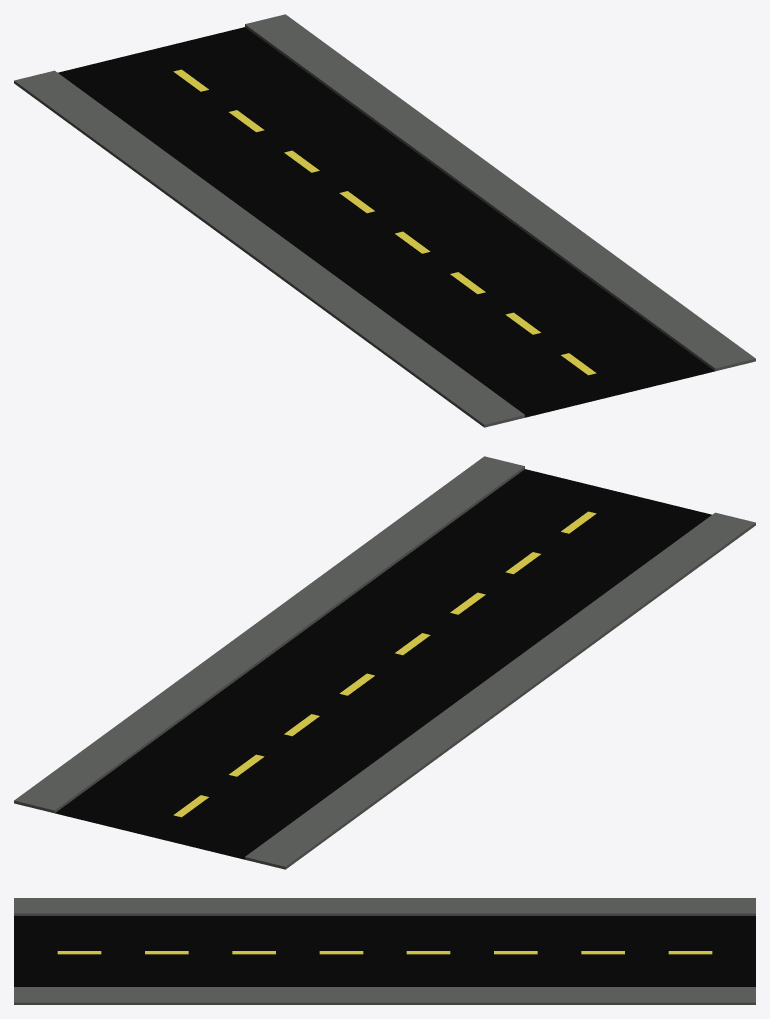
Rendered from road.glb.
The picture shows the model from 3 angles, top to bottom: view 1: azimuth 30°, elevation 25°; view 2: azimuth 150°, elevation 25°; view 3: azimuth 270°, elevation 25°; orthographic projection. The views are drawn at different scales.
Parts seen in each view (by area): view 1: Plane; view 2: Plane; view 3: Plane.
Part boxes in pixels (x1=…): Plane: x1=14, y1=14, x2=755, y2=427; Plane: x1=14, y1=456, x2=755, y2=869; Plane: x1=14, y1=898, x2=755, y2=1004.
Bounding box in the file's own units: 20 × 0.2 × 60.
